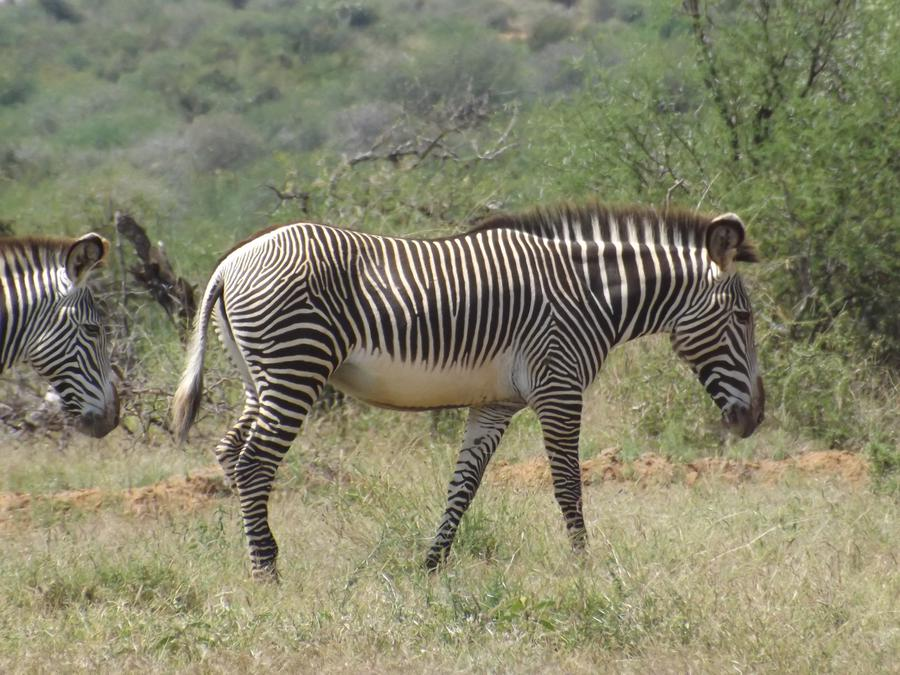zebra_grevys: (208, 195, 595, 403)
